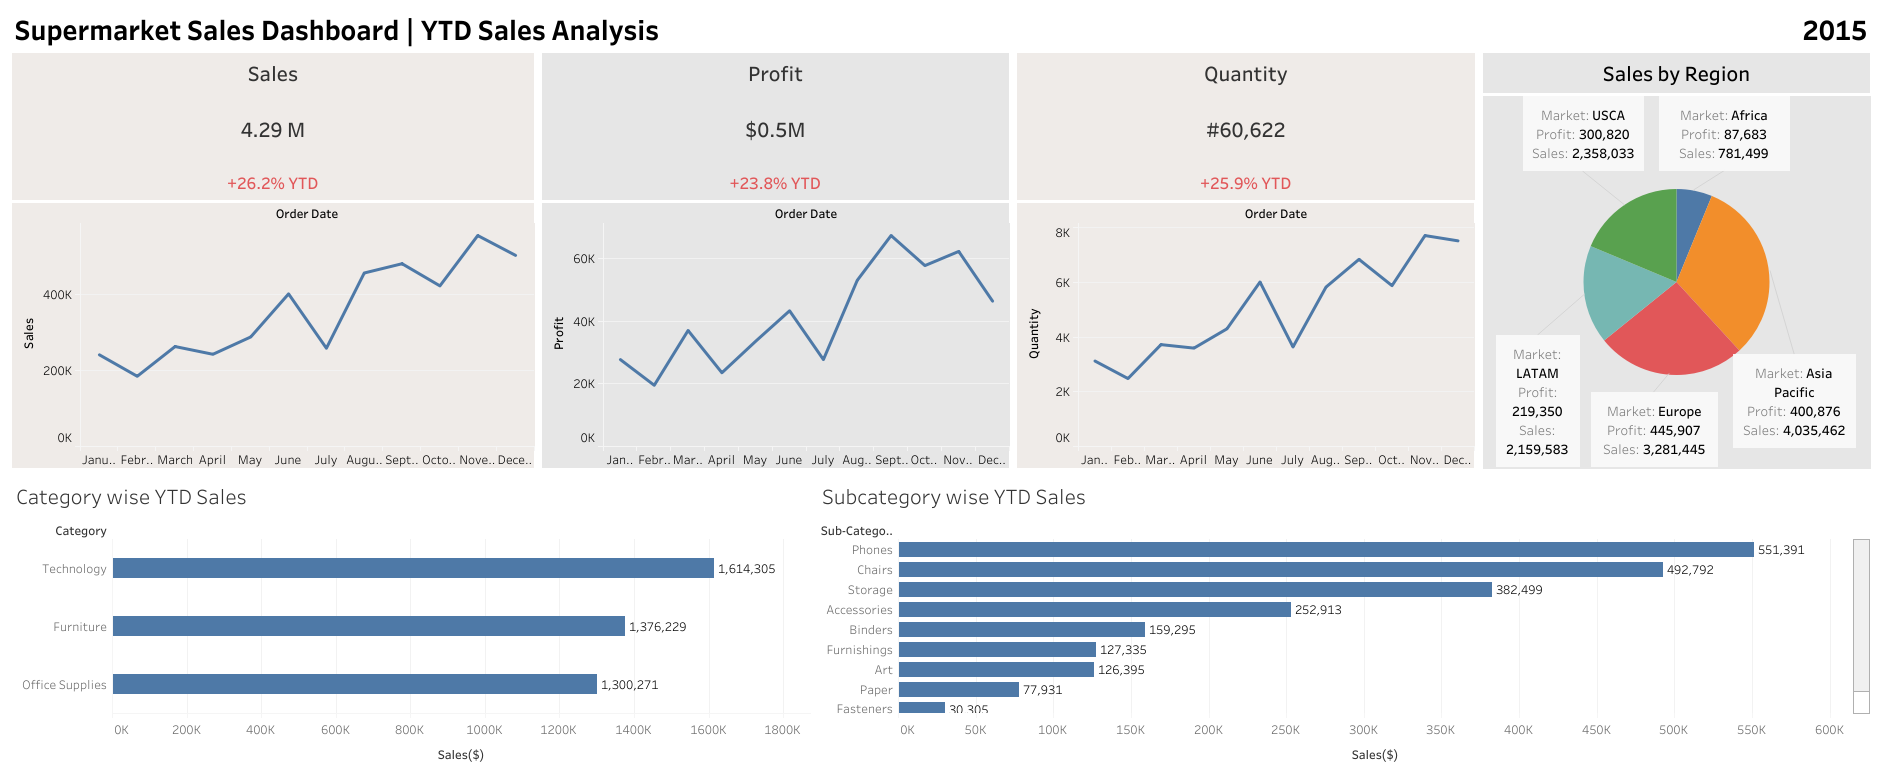

The page's visual inventory and layout, read from the dashboard file:
{"tool":"tableau","page":{"name":"Dashboard 2","canvas":[1000,1000],"units":"permille","ordinal":0},"visuals":[{"type":"image","param":"Image/league_logo3.jpg","box":[5.2,8.3,230.2,219.8]},{"type":"text","box":[235.4,8.3,758.2,100]},{"type":"text","box":[235.4,108.4,758.2,42.1]},{"type":"image","param":"Image/top.png","box":[236,151.5,71,75.6]},{"type":"text","box":[307,151.5,80.5,75.6]},{"type":"image","param":"Image/jungle.png","box":[388.8,151.5,69.7,75.6]},{"type":"text","box":[458.5,151.5,61.3,75.6]},{"type":"image","param":"Image/mid.png","box":[531.9,151.5,78.1,75.6]},{"type":"text","box":[609.9,151.5,76.6,75.6]},{"type":"image","param":"Image/supp.png","box":[687.9,151.5,81.9,75.6]},{"type":"text","box":[769.8,151.5,69,75.6]},{"type":"image","param":"Image/bottom.png","box":[840.1,151.5,43.8,75.6]},{"type":"text","box":[883.9,151.5,109,75.6]},{"type":"worksheet","title":"Sheet 1","mark":"Automatic","rows":["Name"],"cols":["Pick %","Pick %"],"box":[5.2,228.2,352.6,381.8]},{"type":"worksheet","title":"Sheet 2","mark":"Automatic","rows":["Name","Role"],"cols":["Win %","Win %"],"box":[357.8,228.2,419,381.8]},{"type":"worksheet","title":"Sheet 4","mark":"Shape","rows":["Name"],"cols":["Role"],"box":[776.8,228.2,218.1,763.5]},{"type":"worksheet","title":"Sheet 3","mark":"Automatic","rows":["Name"],"cols":["Ban %","Ban %"],"box":[5.2,609.9,352.6,381.8]},{"type":"worksheet","title":"Sheet 5","mark":"Automatic","rows":["Role"],"cols":["Win %","Win %"],"box":[357.8,609.9,419,381.8]}]}

Visuals, with their boxes on the dashboard's canvas, which has no fixed pixel size, in thousandths of its width and height (x1, y1, x2, y2). These are canvas units, not pixel positions in the 1881x781 screenshot, which may show the page scaled, cropped or inside an application window:
image: (5,8,235,228)
text: (235,8,994,108)
text: (235,108,994,150)
image: (236,152,307,227)
text: (307,152,388,227)
image: (389,152,458,227)
text: (458,152,520,227)
image: (532,152,610,227)
text: (610,152,686,227)
image: (688,152,770,227)
text: (770,152,839,227)
image: (840,152,884,227)
text: (884,152,993,227)
"Sheet 1" worksheet: (5,228,358,610)
"Sheet 2" worksheet: (358,228,777,610)
"Sheet 4" worksheet (Shape marks): (777,228,995,992)
"Sheet 3" worksheet: (5,610,358,992)
"Sheet 5" worksheet: (358,610,777,992)
